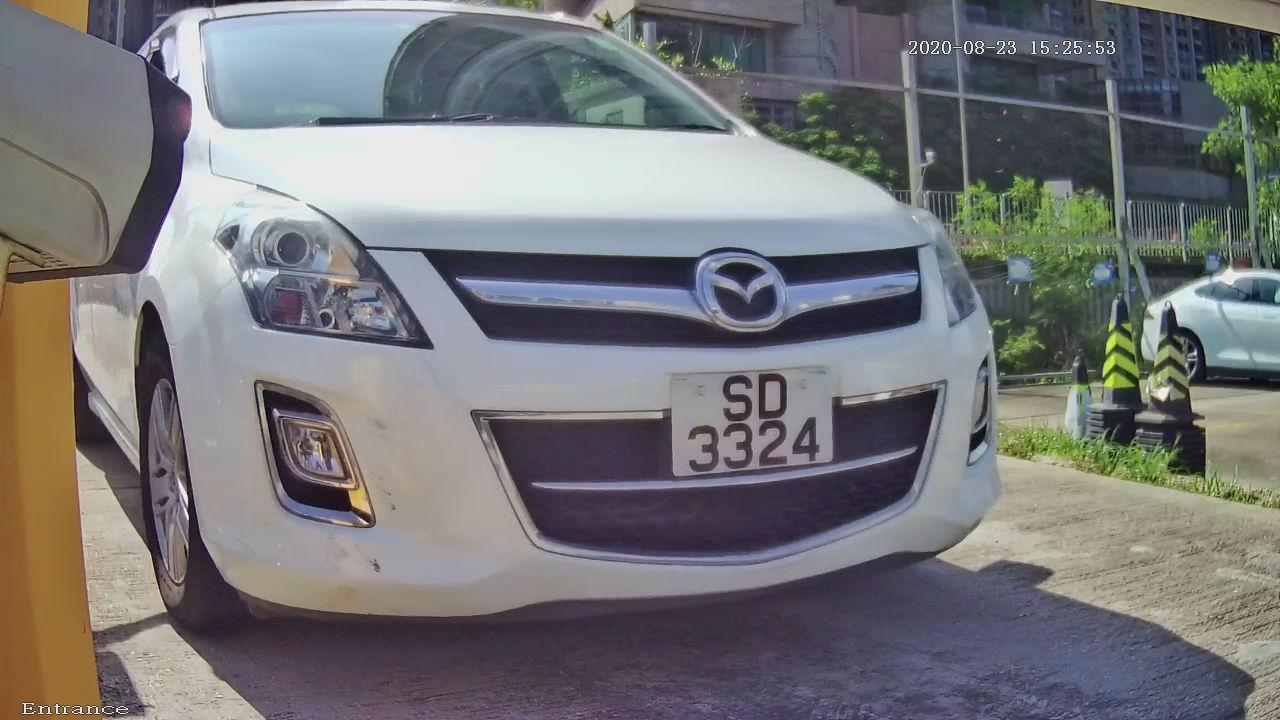Car: (63, 10, 1069, 669)
License Plate: (658, 351, 852, 492)
